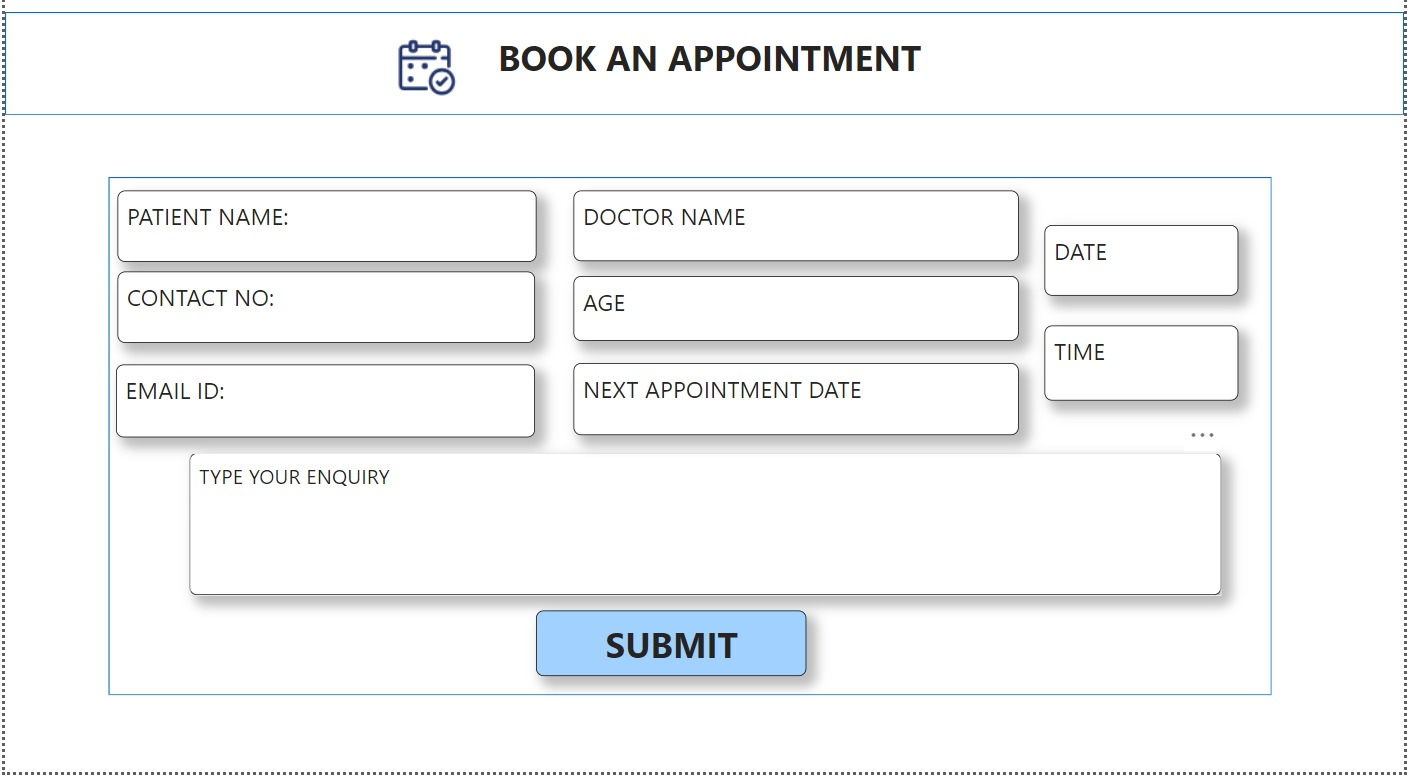

Layout of this report page (visuals, bound fields, positions):
{"tool":"powerbi","page":{"name":"APPOINTMENT PAGE","canvas":[1280,720],"ordinal":5},"visuals":[{"type":"shape","box":[0,24.3,1280,94.3],"z":0},{"type":"image","box":[352.9,34.3,90,72.9],"z":1000},{"type":"textbox","box":[372.9,38.6,542.9,68.6],"z":2000},{"type":"image","box":[318.6,28.6,124.3,78.6],"z":3000},{"type":"shape","box":[94.3,175.7,1064.3,474.3],"z":4000},{"type":"textbox","box":[102.7,187.8,383.2,65.1],"z":5000},{"type":"textbox","box":[102.7,261.7,381.9,65.1],"z":6000},{"type":"textbox","box":[101.4,346.9,383.2,66.4],"z":7000},{"type":"textbox","box":[169,428.2,944.1,130.2],"z":8000},{"type":"textbox","box":[485.7,572.9,247.1,60],"z":9000},{"type":"textbox","box":[519.8,187.5,407.3,64.6],"z":10000},{"type":"textbox","box":[519.8,266.3,407.3,59.5],"z":11000},{"type":"textbox","box":[519.8,346.5,407.3,65.9],"z":12000},{"type":"textbox","box":[951.6,219.8,177.1,64.6],"z":13000},{"type":"textbox","box":[951.6,311.6,177.1,68.5],"z":14000}]}

Visuals, with their boxes in screenshot pixels (x1, y1, x2, y2), scaled from the page's 1280x720 canvas onto the 1421x784 screenshot:
shape: x1=0 y1=26 x2=1420 y2=129
image: x1=392 y1=37 x2=492 y2=117
textbox: x1=414 y1=42 x2=1017 y2=117
image: x1=354 y1=31 x2=492 y2=117
shape: x1=105 y1=191 x2=1286 y2=708
textbox: x1=114 y1=204 x2=539 y2=275
textbox: x1=114 y1=285 x2=538 y2=356
textbox: x1=113 y1=378 x2=538 y2=450
textbox: x1=188 y1=466 x2=1236 y2=608
textbox: x1=539 y1=624 x2=814 y2=689
textbox: x1=577 y1=204 x2=1029 y2=275
textbox: x1=577 y1=290 x2=1029 y2=355
textbox: x1=577 y1=377 x2=1029 y2=449
textbox: x1=1056 y1=239 x2=1253 y2=310
textbox: x1=1056 y1=339 x2=1253 y2=414
